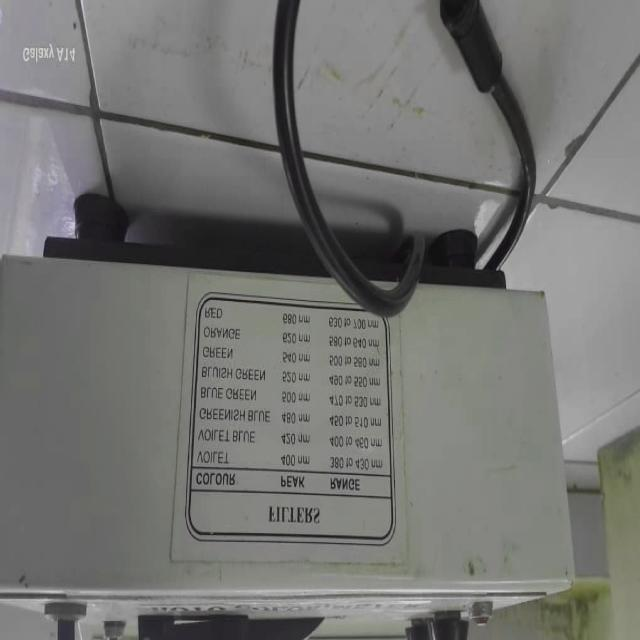Photocolorimeter: (33, 265, 570, 638)
